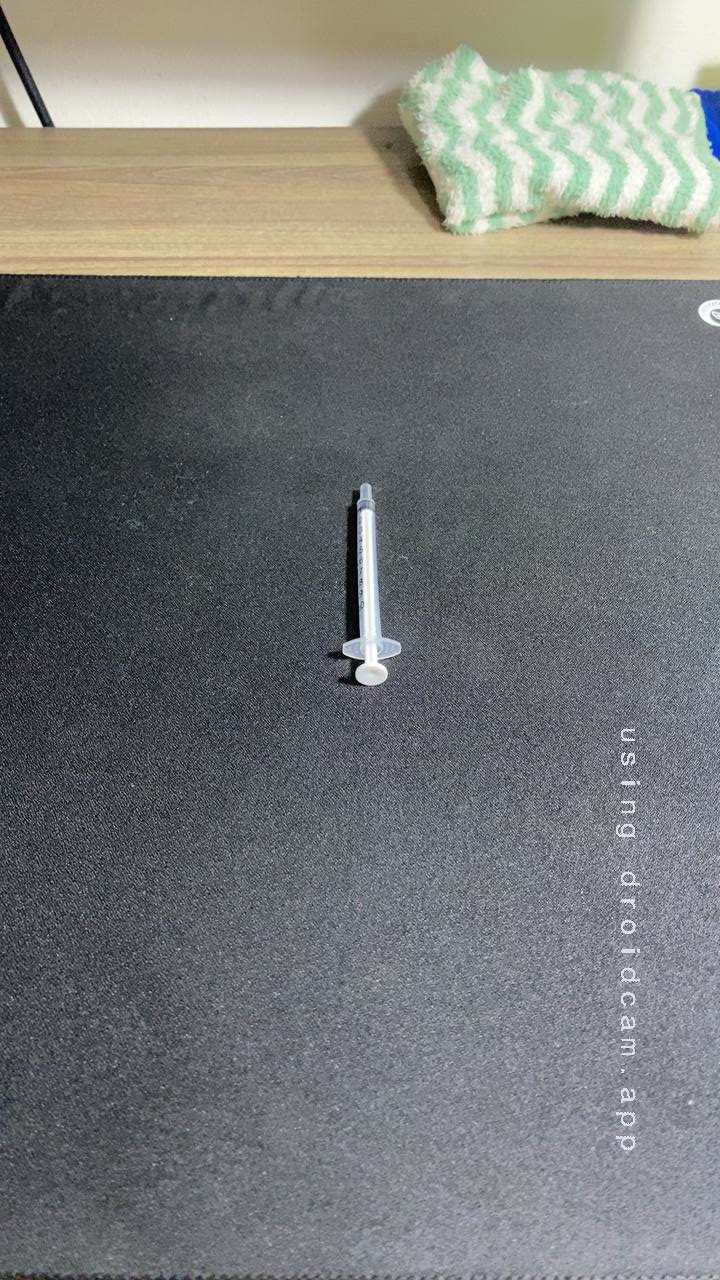syringe: (328, 476, 414, 694)
